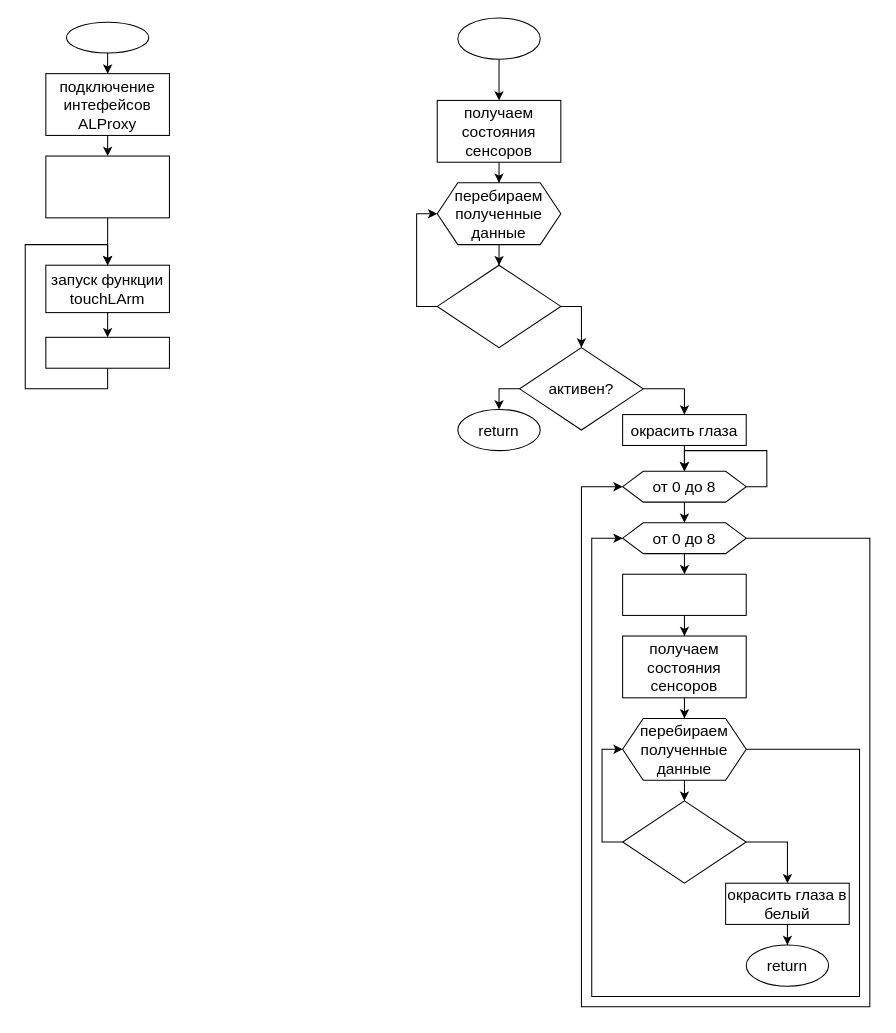
Some shapes in this 896 by 1033 pixel diagram are drawn without their labels. Here are the shapes that lost their labels. From the top down, the centre of each, then its label:
At point (107, 37): "main".
At point (498, 38): "touchLArm".
At point (107, 186): "сброс LED в состояние по умолчанию".
At point (498, 306): "серсор левой руки?".
At point (107, 352): "задержка 0.1с".
At point (684, 594): "окрасить 1 сектор глаза".
At point (684, 841): "левая рука нажата?".
